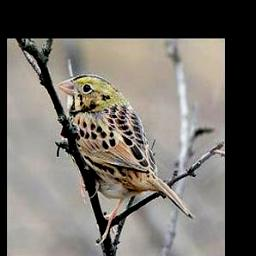Sparrow: (54, 71, 194, 247)
